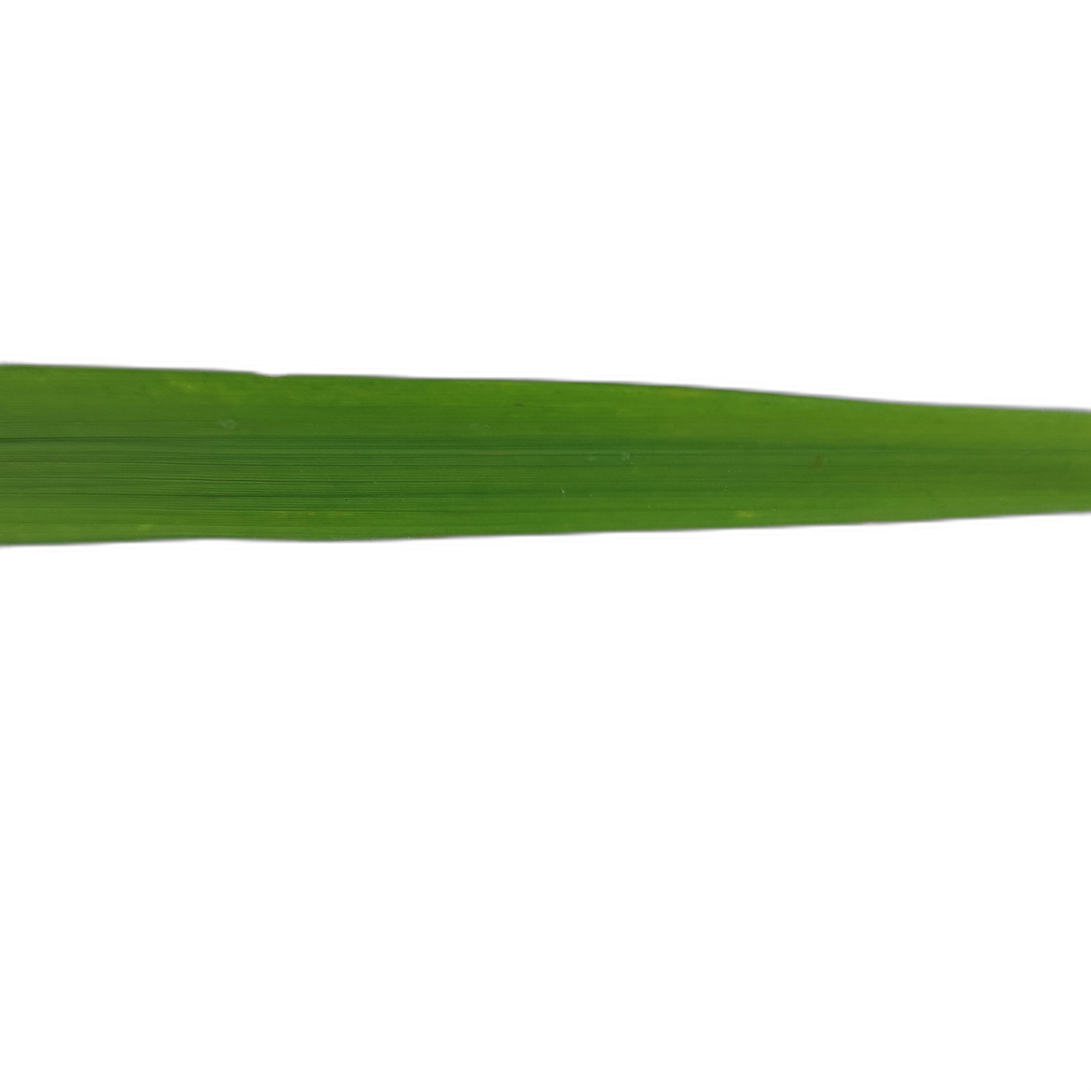Healthy: (0, 365, 1091, 544)
